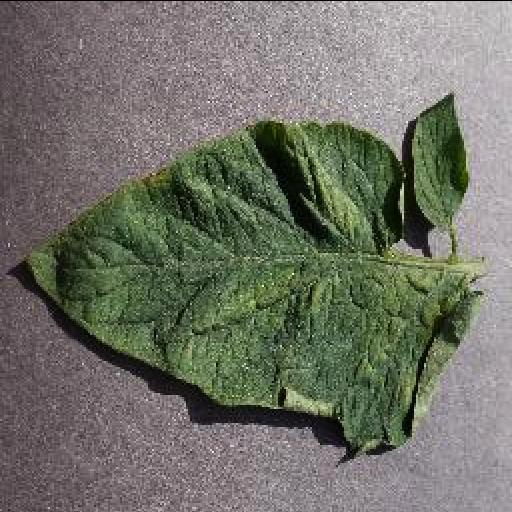disease_tomato: (24, 120, 486, 454)
